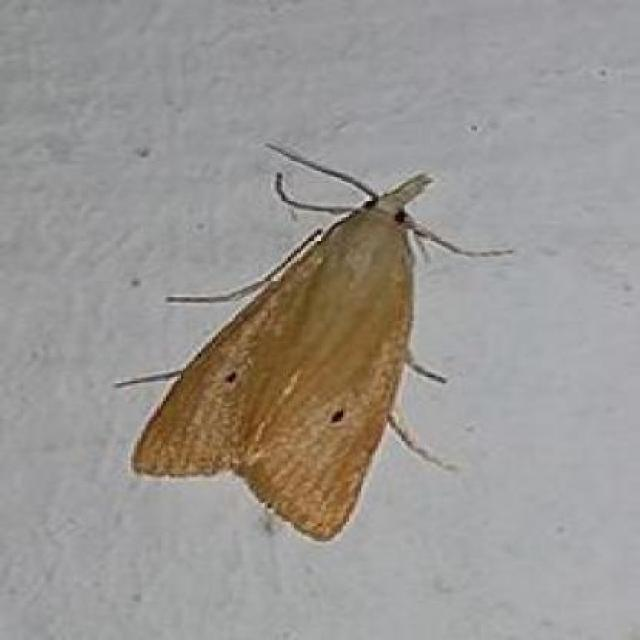stem-borer: (115, 136, 511, 546)
